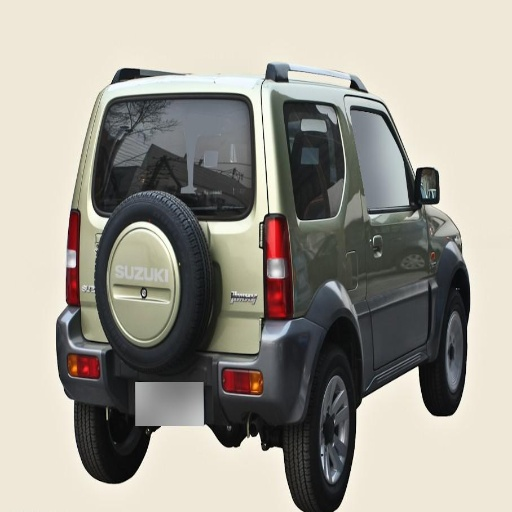back_bumper: (66, 313, 321, 425)
back_right_door: (287, 96, 394, 327)
tailgate: (79, 229, 173, 339)
trunk: (199, 202, 264, 351)
